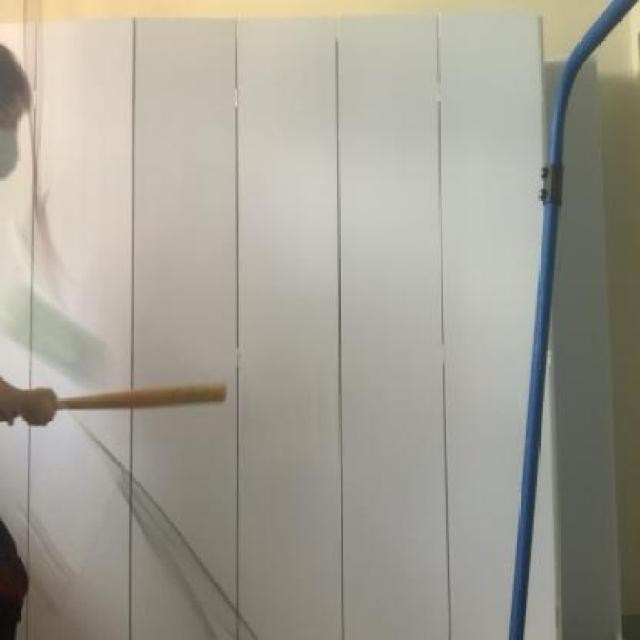baseball: (0, 262, 128, 387)
